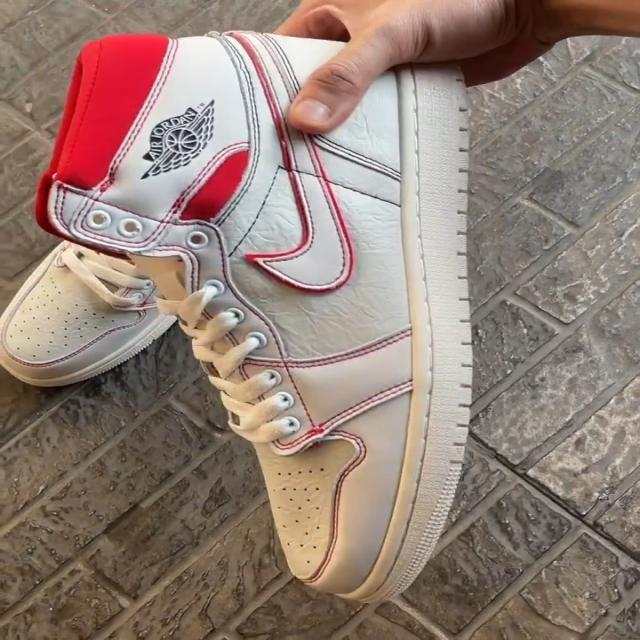nike fake jordan 1: (35, 33, 478, 616), (0, 32, 360, 393)
